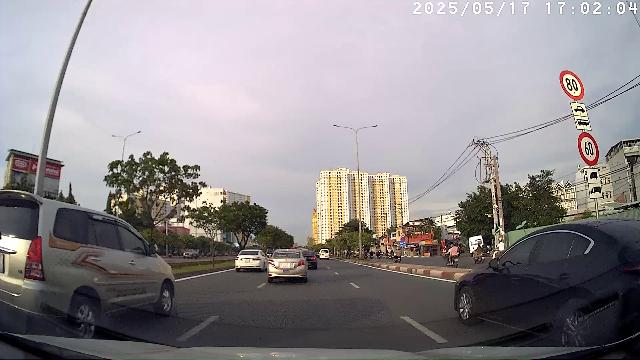127-toc-do-toi-da-60: (577, 132, 599, 166)
127-toc-do-toi-da-80: (559, 70, 584, 100)
